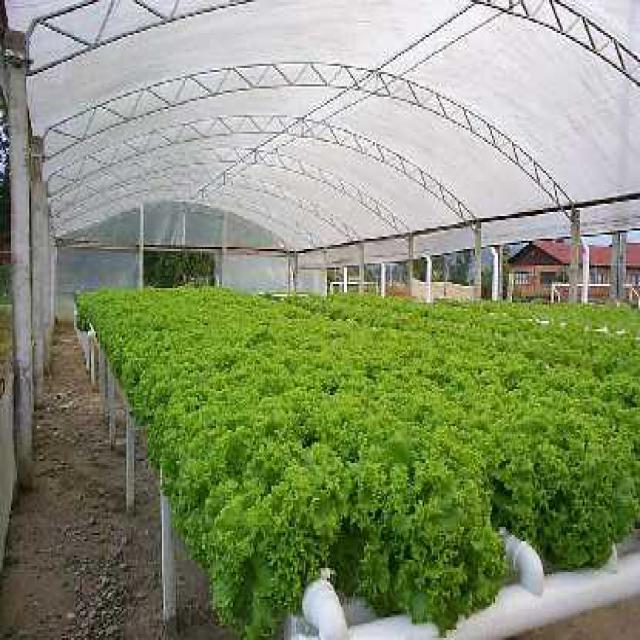pipe: (301, 527, 637, 634)
plants: (74, 286, 635, 634)
